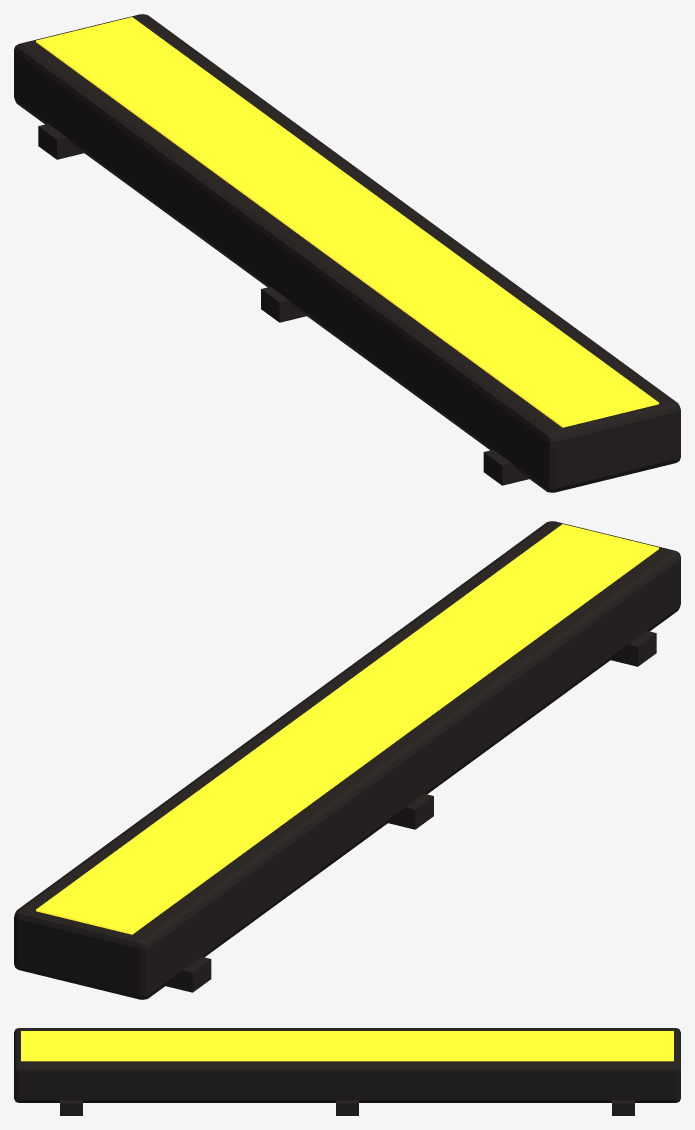
Rendered from Conduit7.fbx.
3 renders of one model, top to bottom at view 1: azimuth 30°, elevation 25°; view 2: azimuth 150°, elevation 25°; view 3: azimuth 270°, elevation 25°, orthographic. The views are drawn at different scales.
Parts seen in each view (by area): view 1: Iron_Trough0, Slag_Melt0, Iron_Stand0, Iron_Stand2, Iron_Stand1; view 2: Iron_Trough0, Slag_Melt0, Iron_Stand2, Iron_Stand0, Iron_Stand1; view 3: Iron_Trough0, Slag_Melt0, Iron_Stand0, Iron_Stand1, Iron_Stand2.
Boxes of the visible parts, box(x1,y1,x2,y2) form: Iron_Trough0: box(14, 14, 680, 492); Slag_Melt0: box(36, 17, 658, 427); Iron_Stand0: box(483, 449, 528, 485); Iron_Stand2: box(38, 124, 83, 159); Iron_Stand1: box(261, 286, 306, 322); Iron_Trough0: box(14, 521, 680, 999); Slag_Melt0: box(36, 524, 658, 934); Iron_Stand2: box(166, 956, 211, 992); Iron_Stand0: box(611, 631, 656, 666); Iron_Stand1: box(388, 793, 433, 829); Iron_Trough0: box(14, 1028, 680, 1102); Slag_Melt0: box(21, 1031, 673, 1061); Iron_Stand0: box(60, 1100, 82, 1115); Iron_Stand1: box(336, 1100, 358, 1115); Iron_Stand2: box(612, 1100, 634, 1115).
Size of the model in its own units: 0.48 by 2.9 by 0.225.
